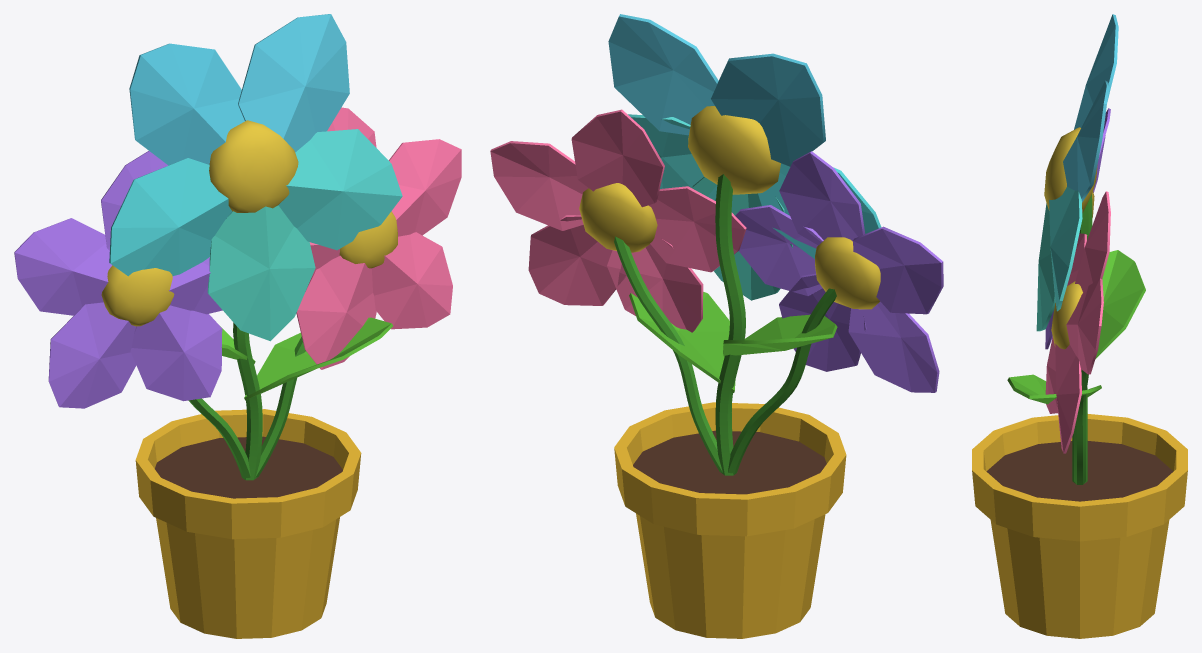
File: Pot_L7.fbx
3 views of the same model, side by side, from view 1: azimuth 30°, elevation 25°; view 2: azimuth 150°, elevation 25°; view 3: azimuth 270°, elevation 25° (orthographic). The views are drawn at different scales.
Visible parts, largest first — view 1: L7_Pot, L7_Petal_008, L7_Petal_009, L7_Petal_006, L7_Petal_007, L7_Petal_010, L7_Soil, L7_B_Petal_007, L7_B_Petal_008, L7_B_Petal_006, L7_A_Petal_010, L7_Flower_Center001 (+11 smaller); view 2: L7_Pot, L7_Petal_009, L7_Petal_008, L7_Soil, L7_A_Petal_009, L7_A_Petal_008, L7_A_Petal_010, L7_Flower_Center001, L7_B_Petal_007, L7_B_Petal_009, L7_B_Petal_008, L7_A_Petal_007 (+13 smaller); view 3: L7_Pot, L7_Soil, L7_Leaf_L, L7_Petal_010, L7_Petal_009, L7_A_Petal_009, L7_A_Petal_010, L7_A_Petal_008, L7_Petal_008, L7_Petal_006, L7_Flower_Center001, L7_Stem_A (+5 smaller).
Boxes of the visible parts, left/top/right/bottom form: L7_Pot: left=135, top=409, right=361, bottom=638; L7_Petal_008: left=129, top=43, right=244, bottom=165; L7_Petal_009: left=238, top=14, right=349, bottom=152; L7_Petal_006: left=207, top=205, right=315, bottom=341; L7_Petal_007: left=109, top=158, right=231, bottom=276; L7_Petal_010: left=278, top=129, right=402, bottom=250; L7_Soil: left=155, top=436, right=342, bottom=498; L7_B_Petal_007: left=48, top=302, right=136, bottom=408; L7_B_Petal_008: left=14, top=218, right=112, bottom=315; L7_B_Petal_006: left=130, top=305, right=222, bottom=401; L7_A_Petal_010: left=371, top=232, right=452, bottom=329; L7_Flower_Center001: left=209, top=120, right=298, bottom=212; L7_Pot: left=614, top=402, right=846, bottom=638; L7_Petal_009: left=608, top=14, right=718, bottom=135; L7_Petal_008: left=711, top=53, right=825, bottom=166; L7_Soil: left=633, top=430, right=826, bottom=494; L7_A_Petal_009: left=490, top=141, right=588, bottom=230; L7_A_Petal_008: left=571, top=109, right=664, bottom=207; L7_A_Petal_010: left=528, top=215, right=626, bottom=305; L7_Flower_Center001: left=688, top=106, right=780, bottom=194; L7_B_Petal_007: left=848, top=301, right=939, bottom=392; L7_B_Petal_009: left=779, top=151, right=865, bottom=245; L7_B_Petal_008: left=853, top=226, right=943, bottom=314; L7_A_Petal_007: left=648, top=186, right=746, bottom=272; L7_Pot: left=972, top=414, right=1187, bottom=638; L7_Soil: left=986, top=441, right=1173, bottom=501; L7_Leaf_L: left=1095, top=250, right=1145, bottom=358; L7_Petal_010: left=1049, top=186, right=1082, bottom=311; L7_Petal_009: left=1063, top=80, right=1109, bottom=202; L7_A_Petal_009: left=1066, top=278, right=1103, bottom=374; L7_A_Petal_010: left=1055, top=343, right=1081, bottom=453; L7_A_Petal_008: left=1075, top=191, right=1110, bottom=292; L7_Petal_008: left=1074, top=14, right=1118, bottom=129; L7_Petal_006: left=1036, top=203, right=1055, bottom=331; L7_Flower_Center001: left=1044, top=127, right=1097, bottom=213; L7_Stem_A: left=1073, top=369, right=1088, bottom=484.
Size of the model in its own units: 58.78 by 71.5 by 25.35.
